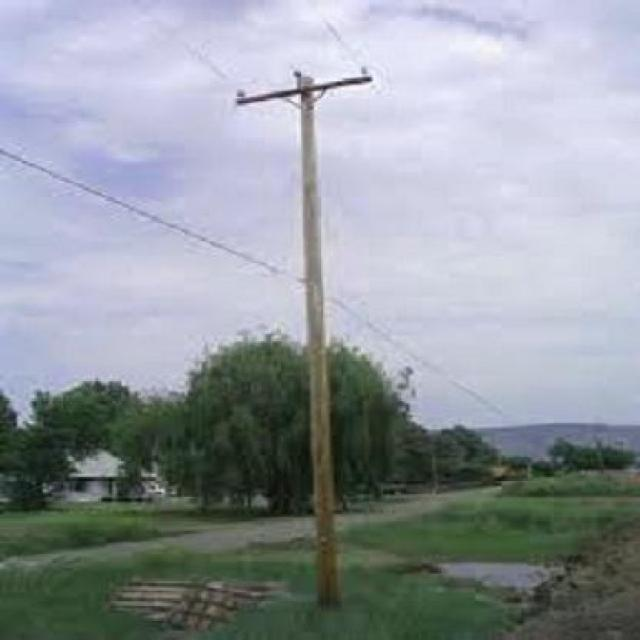pole: (226, 66, 385, 599)
